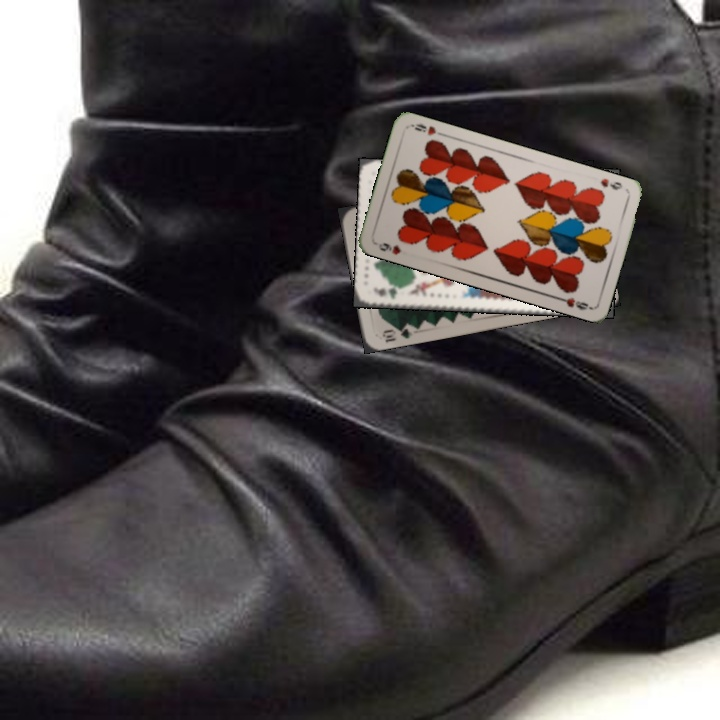G10: (378, 320, 416, 344)
GK: (369, 283, 407, 301)
H9: (374, 239, 405, 257), (597, 174, 625, 193)
